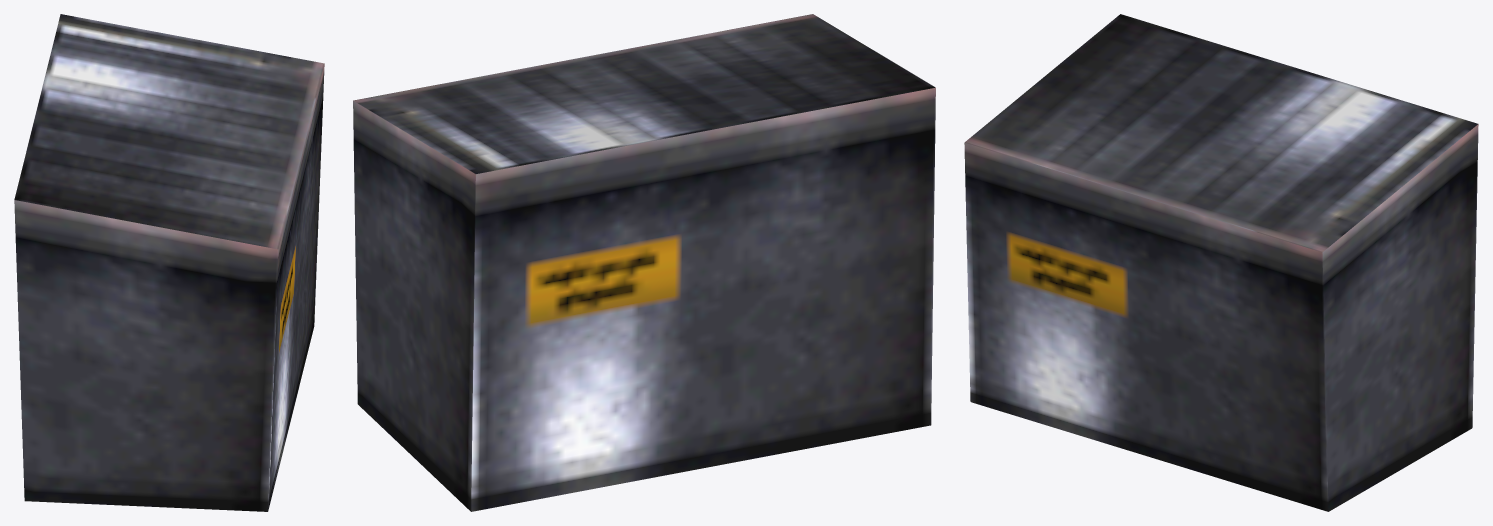
File: dump02.glb
3 views of the same model, side by side, from view 1: azimuth 30°, elevation 25°; view 2: azimuth 150°, elevation 25°; view 3: azimuth 270°, elevation 25° (orthographic). The views are drawn at different scales.
Parts seen in each view (by area): view 1: dump02; view 2: dump02; view 3: dump02.
Boxes of the visible parts, x1,y1,x2,y2 form: dump02: (14, 14, 324, 511); dump02: (353, 14, 935, 511); dump02: (964, 14, 1478, 511).
Size of the model in its own units: 445 by 311 by 481.
Materials: 1 (1 with a texture image).
